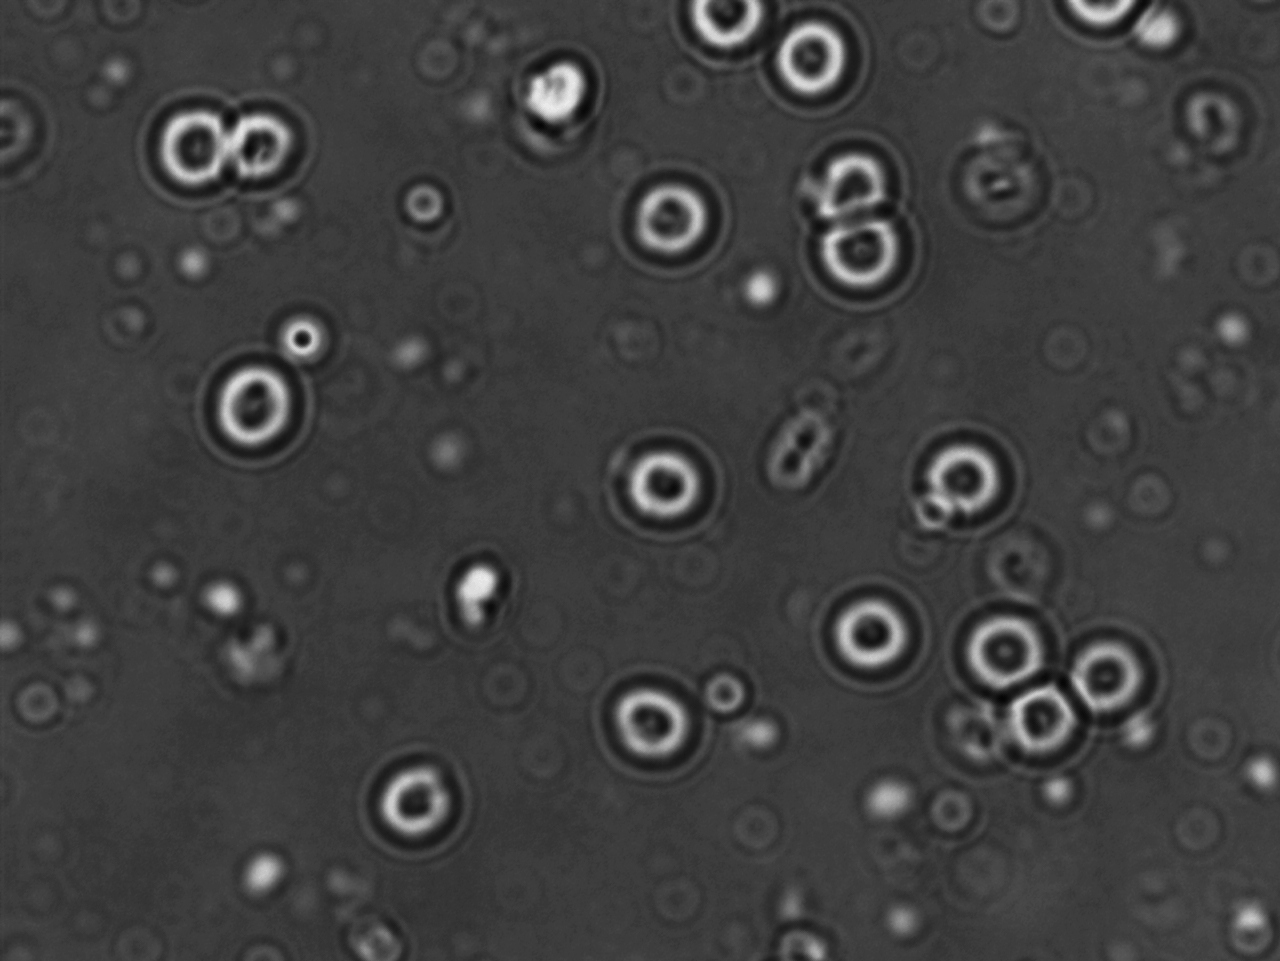depth:8: (806, 571, 939, 698), (190, 349, 320, 477), (353, 738, 488, 857), (128, 81, 250, 208), (798, 201, 927, 318), (804, 111, 926, 232), (611, 157, 732, 275), (949, 583, 1070, 700), (605, 424, 725, 539), (203, 86, 319, 202), (595, 669, 713, 783), (758, 8, 877, 117), (1056, 611, 1171, 723), (908, 418, 1020, 525), (993, 669, 1103, 777)
